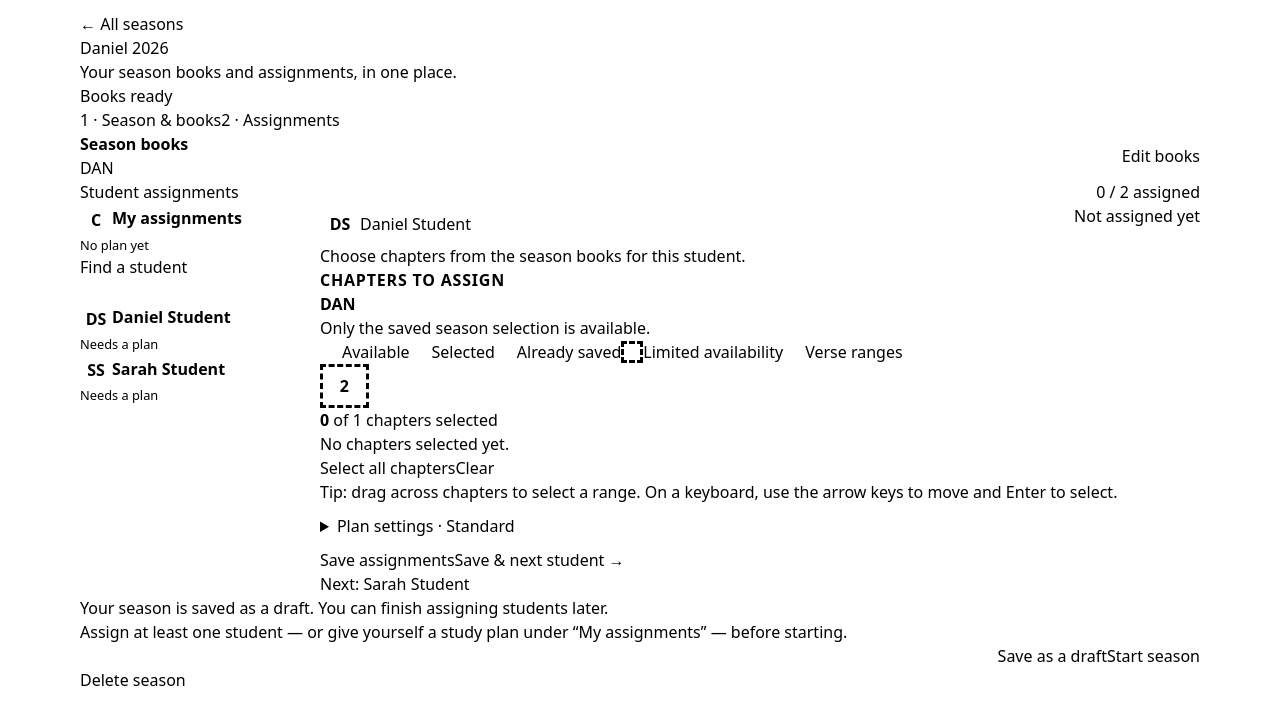
it: Two-step season planner › saves a book and advances inside the persistent student roster
The image size is (1280, 717).
What coordinates should you click on to do the following:
click the button "Select all chapters"
I would click on:
 (388, 468)
Its box is [320,456,455,480].
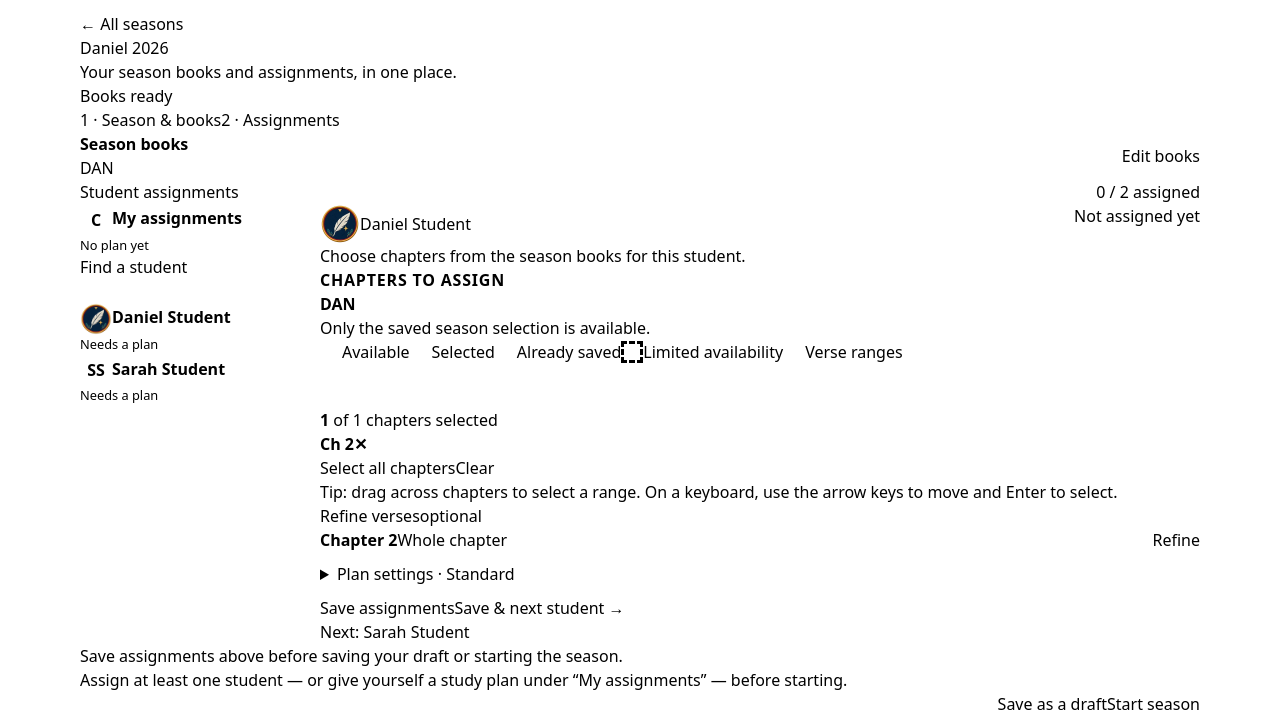
What coordinates should you click on to do the following:
click the button "Save & next student →"
I would click on:
 (540, 608)
Its box is [454,596,624,620].
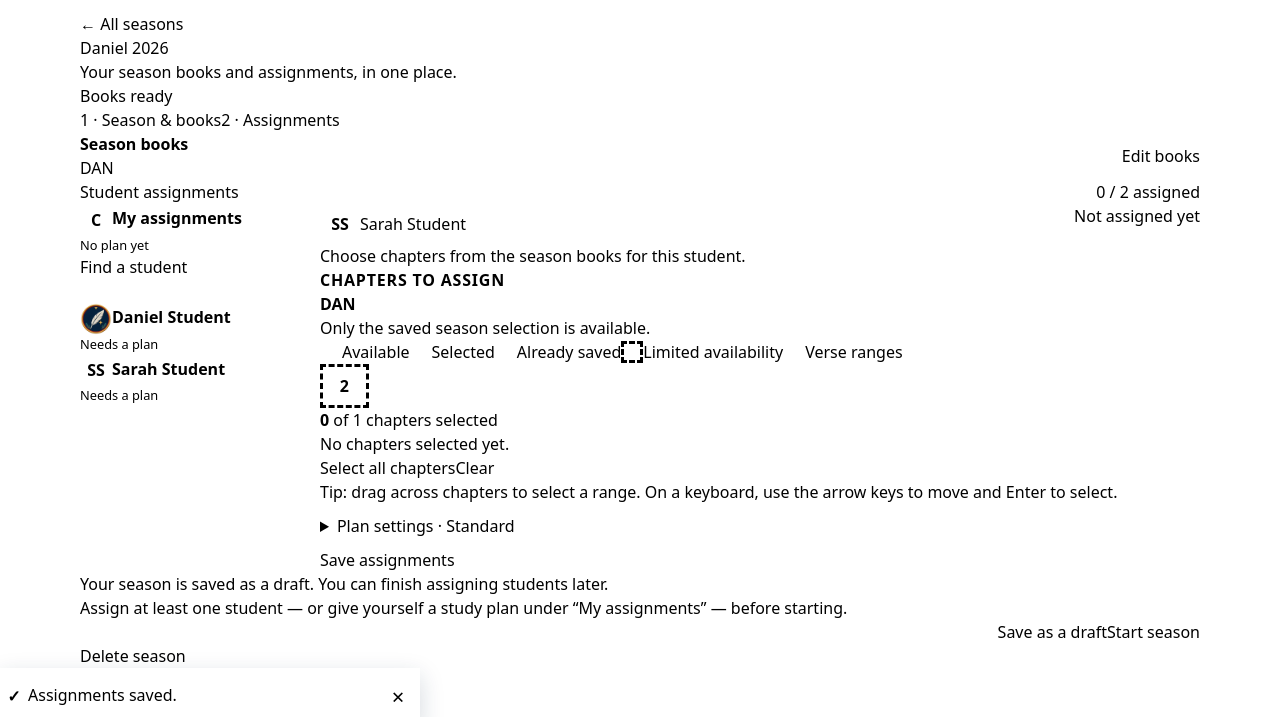
Expected: the button "Daniel Student Needs a plan" is shown, [80,303,320,354]
Expected: the heading "Sarah Student" is shown, [360,212,466,236]
Expected: the element showing "0 of 1 chapters selected" is shown, [320,409,498,431]
